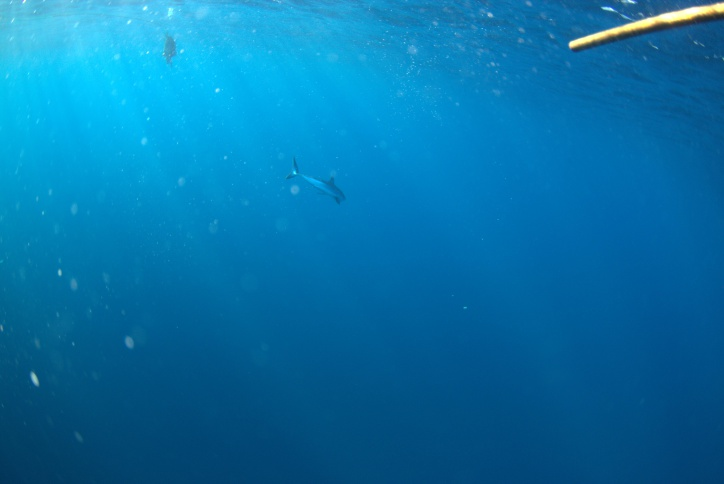Mako: (276, 150, 356, 213)
